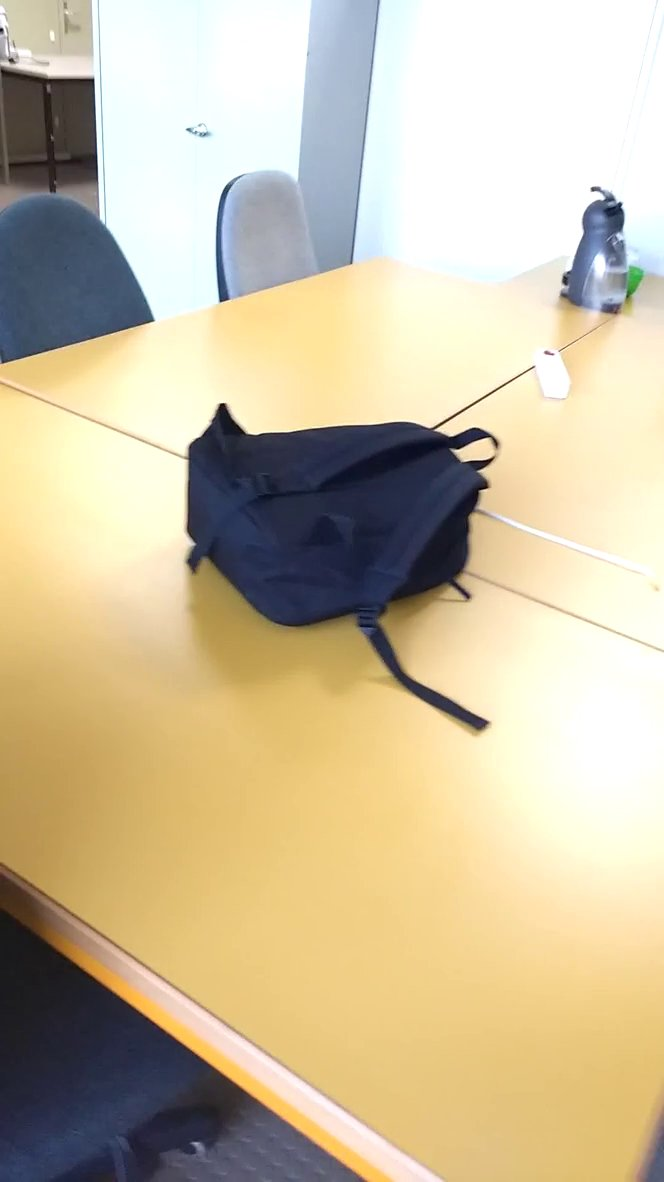bag: (168, 390, 512, 744)
chair: (2, 179, 166, 373), (210, 151, 344, 305)
